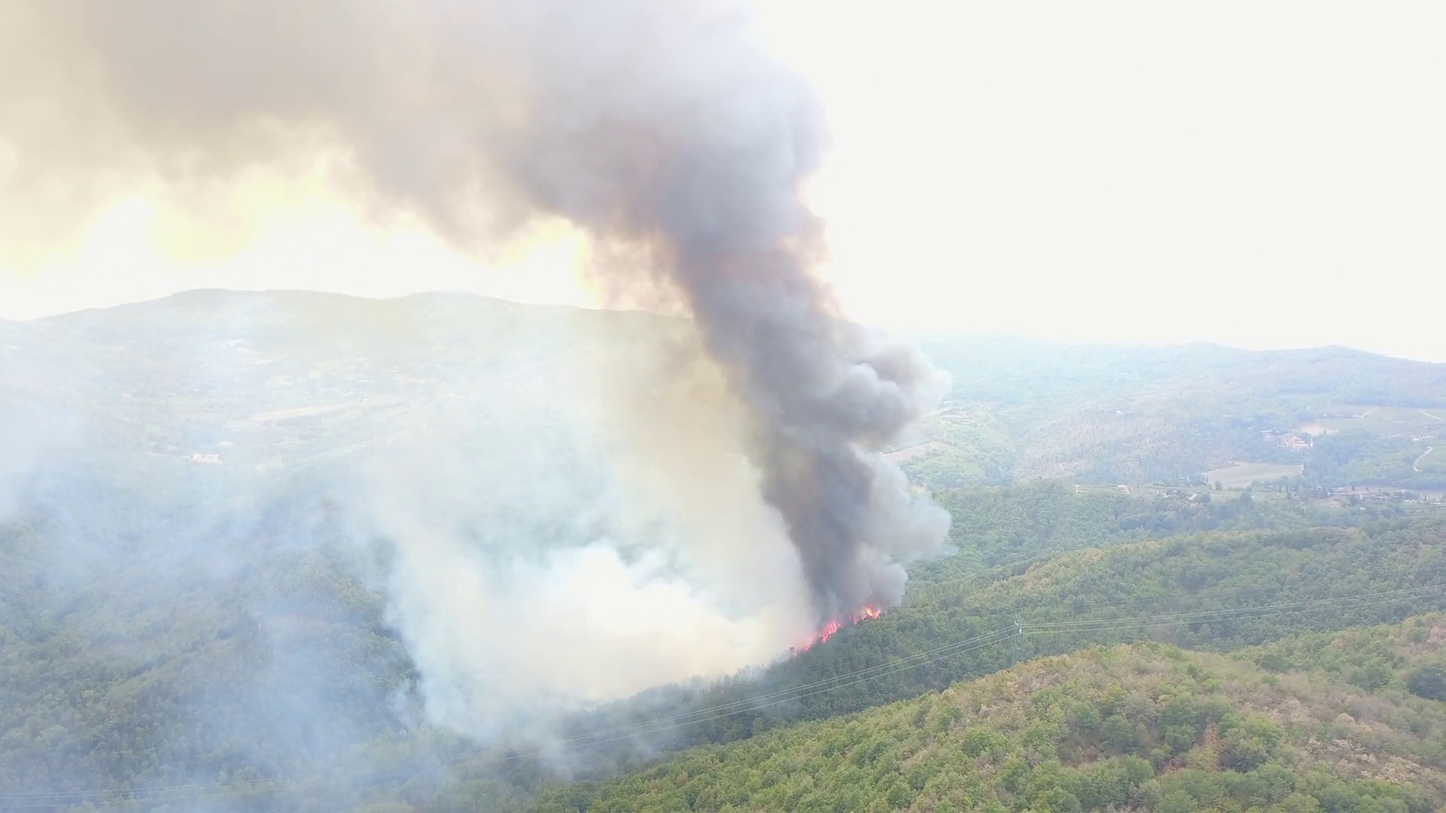forest_fire: (791, 604, 881, 655)
